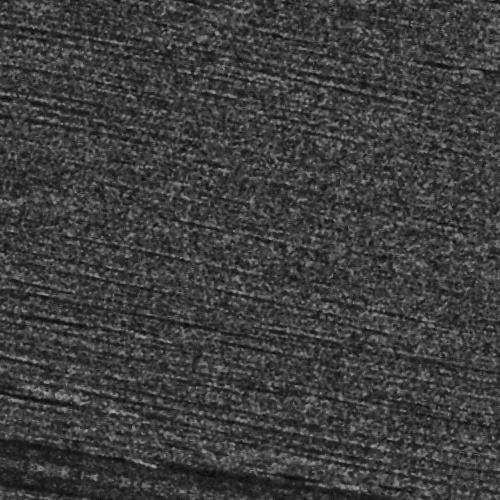object: (349, 462, 422, 467), (127, 426, 190, 431)
shadow: (18, 426, 159, 431), (354, 462, 386, 467)
